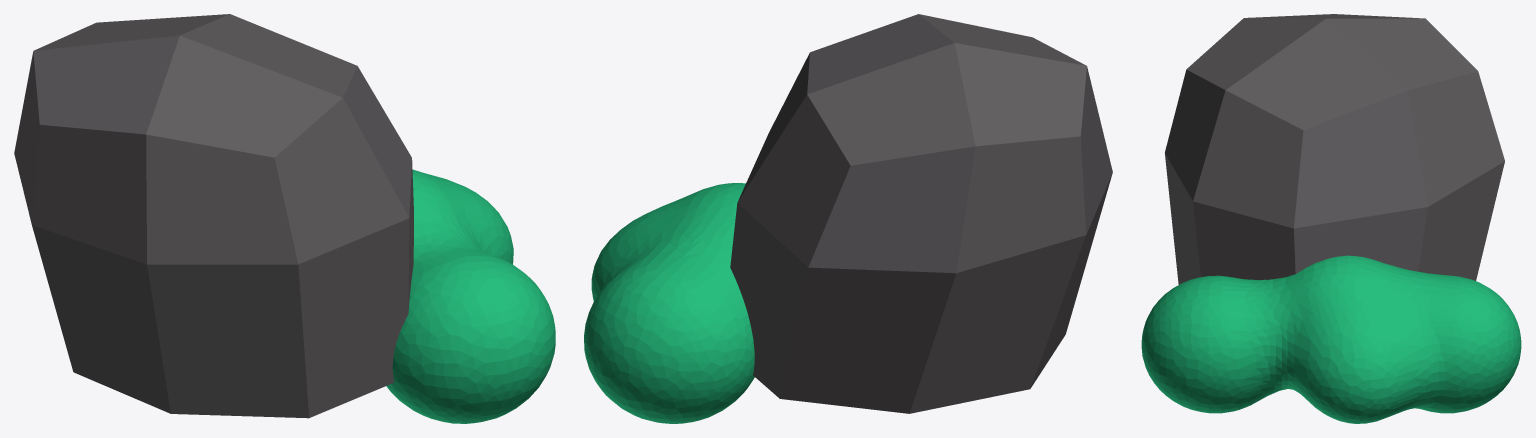
Rendered from bushstone.fbx.
3 renders of one model, left to right at view 1: azimuth 30°, elevation 25°; view 2: azimuth 150°, elevation 25°; view 3: azimuth 270°, elevation 25°, orthographic. The views are drawn at different scales.
Visible parts, largest first — view 1: Mball.001; view 2: Mball.001; view 3: Mball.001.
Boxes of the visible parts, x1,y1,x2,y2 form: Mball.001: (14,14,555,423); Mball.001: (584,14,1112,423); Mball.001: (1141,14,1521,423).
Size of the model in its own units: 155 by 116 by 132.
